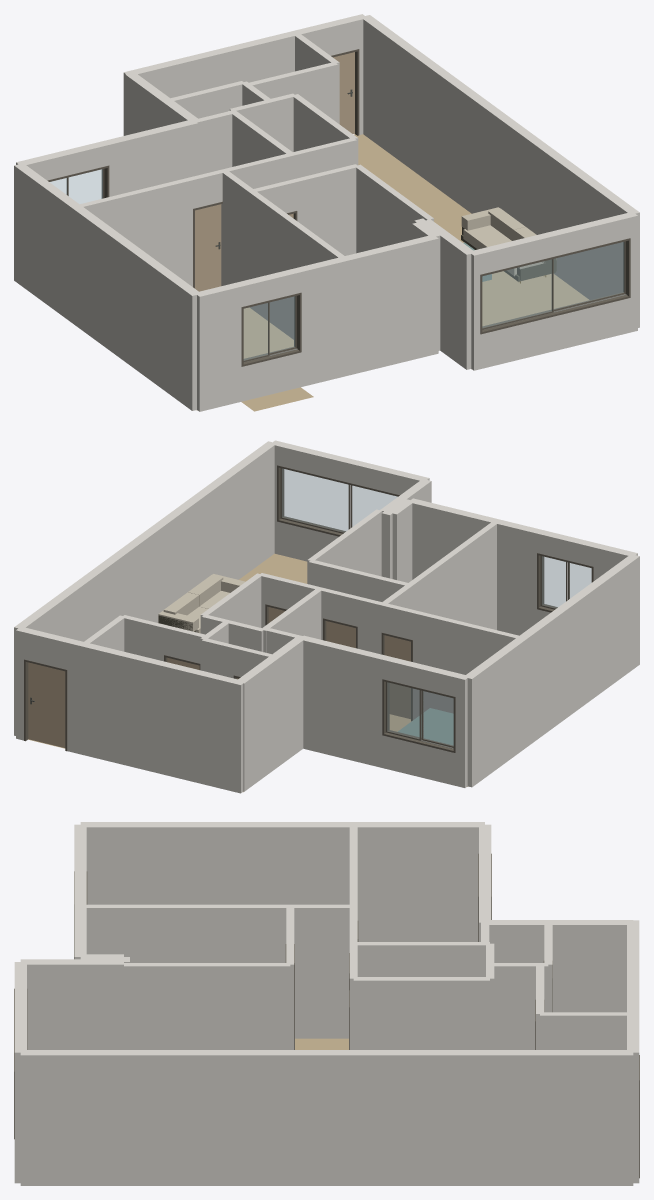
The model's file is space-detailed.gltf.
3 views of the same model, one above another, from view 1: azimuth 30°, elevation 25°; view 2: azimuth 150°, elevation 25°; view 3: azimuth 270°, elevation 25° (orthographic). The views are drawn at different scales.
Visible parts, largest first — view 1: east:0:0, west:0:0, south_b:0:0, floor, store_a_east:0:0, bed_a_south:0:0, north:0:0, south_store:2:0, south_store:0:0, south_living:1:0, north_a:2:0, bed_b_north:2:0 (+36 smaller); view 2: west:0:0, north:0:0, east:0:0, north_a:2:0, west_kitchen:0:0, store_a_east:0:0, bed_a_south:0:0, south_store:2:0, south_b:0:0, south_living:1:1, living_window:glass_1, entry:leaf (+38 smaller); view 3: east:0:0, west:0:0, store_a_east:0:0, bed_b_east:0:0, bath_east:0:0, west_kitchen:0:0, west_living:0:0, bath_west:0:0, store_b_east:0:0, kitchen_east:0:0, north:0:0, south_living:1:1 (+9 smaller).
Boxes of the visible parts, <box> form: east:0:0: <box>362,15,639,327</box>; west:0:0: <box>14,164,199,410</box>; south_b:0:0: <box>342,235,438,375</box>; floor: <box>196,134,589,411</box>; store_a_east:0:0: <box>221,170,345,339</box>; bed_a_south:0:0: <box>76,177,192,286</box>; north:0:0: <box>123,27,313,135</box>; south_store:2:0: <box>296,257,347,386</box>; south_store:0:0: <box>195,282,241,411</box>; south_living:1:0: <box>480,298,630,368</box>; north_a:2:0: <box>104,119,197,196</box>; bed_b_north:2:0: <box>294,164,358,255</box>; west:0:0: <box>463,555,639,787</box>; north:0:0: <box>67,639,245,793</box>; east:0:0: <box>14,441,276,735</box>; north_a:2:0: <box>299,635,386,767</box>; west_kitchen:0:0: <box>237,636,304,791</box>; store_a_east:0:0: <box>381,522,496,629</box>; bed_a_south:0:0: <box>413,610,523,719</box>; south_store:2:0: <box>494,519,541,635</box>; south_b:0:0: <box>408,498,498,579</box>; south_living:1:1: <box>277,442,422,494</box>; living_window:glass_1: <box>282,468,348,532</box>; entry:leaf: <box>28,662,65,747</box>; east:0:0: <box>20,1050,633,1185</box>; west:0:0: <box>80,822,484,941</box>; store_a_east:0:0: <box>86,904,349,1038</box>; bed_b_east:0:0: <box>124,963,290,1049</box>; bath_east:0:0: <box>353,977,489,1049</box>; west_kitchen:0:0: <box>485,920,633,1012</box>; west_living:0:0: <box>20,959,123,1049</box>; bath_west:0:0: <box>353,942,489,976</box>; store_b_east:0:0: <box>490,963,548,1049</box>; kitchen_east:0:0: <box>540,1012,626,1049</box>; north:0:0: <box>627,920,639,1022</box>; south_living:1:1: <box>14,965,26,1048</box>.
Size of the model in its own units: 10.73 by 2.81 by 12.17.
